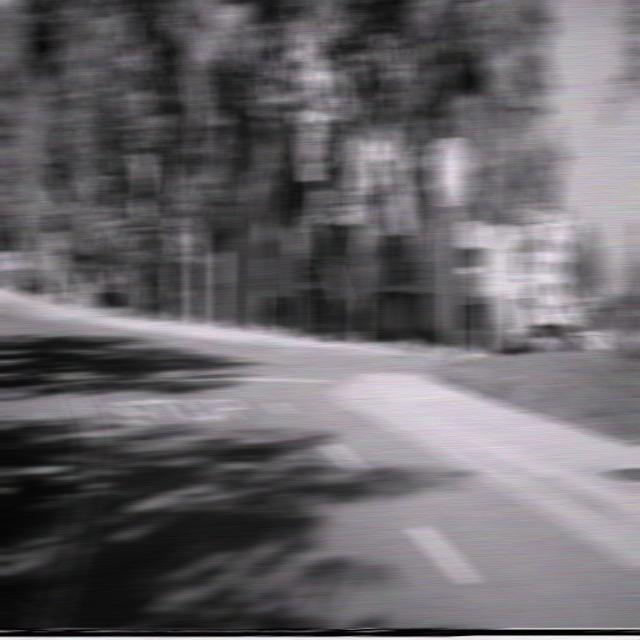stop_sign: (430, 136, 472, 207)
